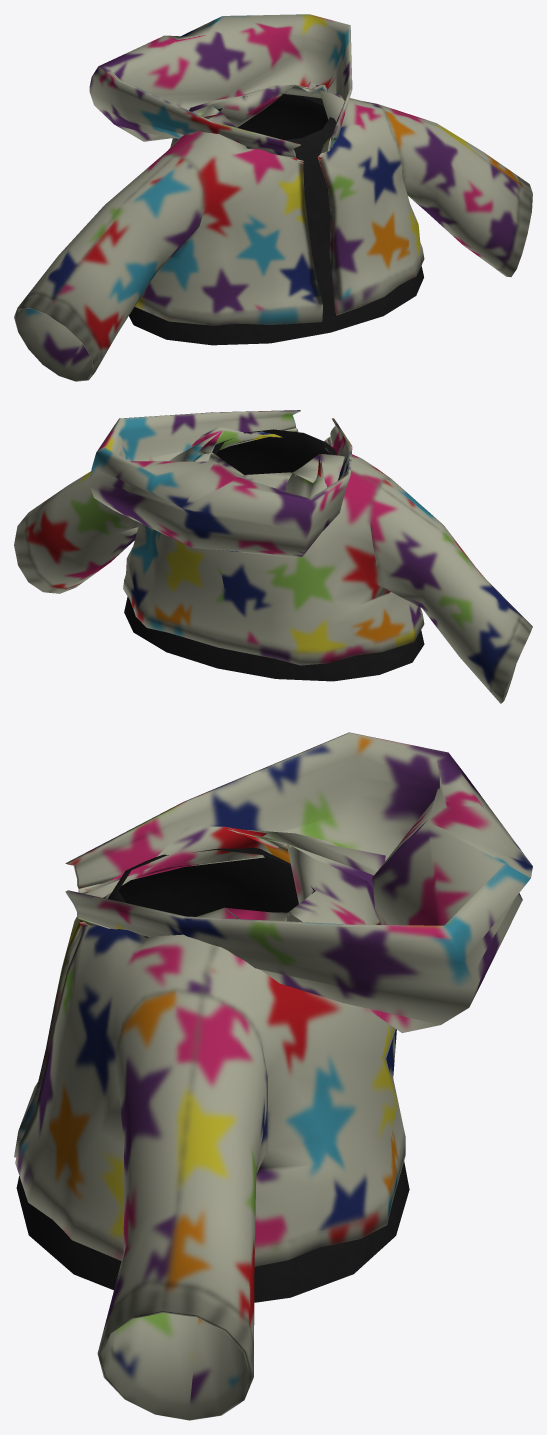
File: Mape_Hoodie.glb
3 renders of one model, top to bottom at view 1: azimuth 30°, elevation 25°; view 2: azimuth 150°, elevation 25°; view 3: azimuth 270°, elevation 25°, orthographic. The views are drawn at different scales.
Visible parts, largest first — view 1: Mape_Hoodie; view 2: Mape_Hoodie; view 3: Mape_Hoodie.
Part boxes in pixels (<box>): Mape_Hoodie: <box>14,14,532,381</box>; Mape_Hoodie: <box>14,410,532,703</box>; Mape_Hoodie: <box>14,732,532,1420</box>.
Size of the model in its own units: 0.999 by 0.4488 by 0.5156.
Materials: 2 (2 with a texture image).
